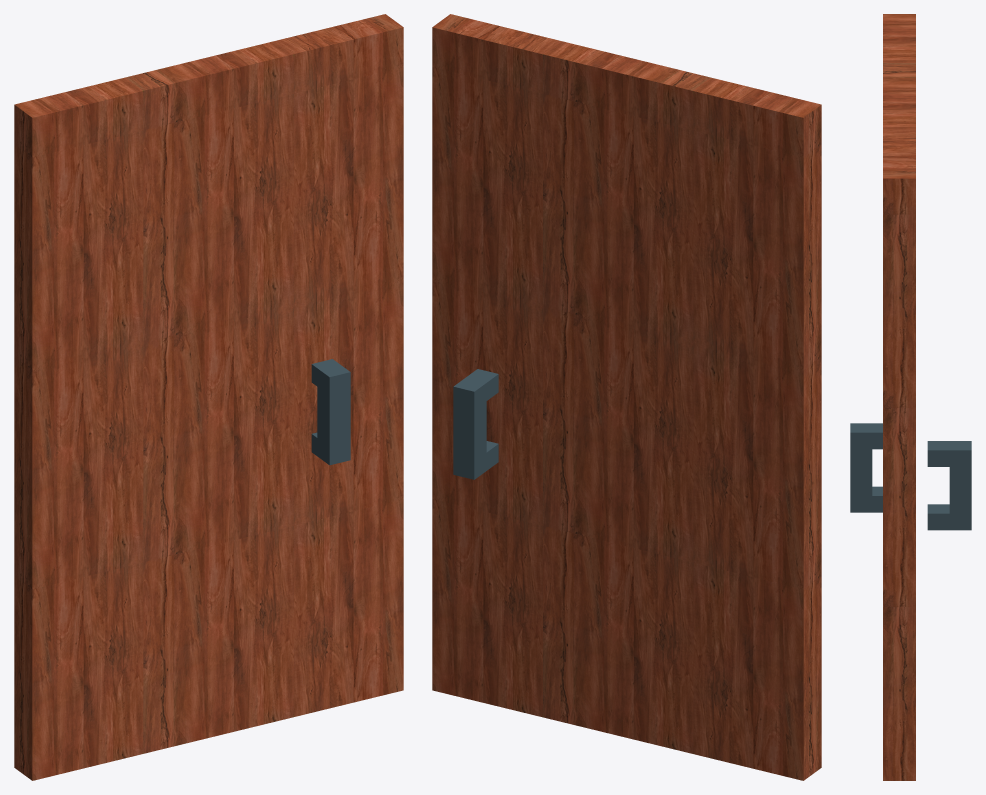
Rendered from door_tong.fbx.
3 views of the same model, side by side, from view 1: azimuth 30°, elevation 25°; view 2: azimuth 150°, elevation 25°; view 3: azimuth 270°, elevation 25° (orthographic). The views are drawn at different scales.
Visible parts, largest first — view 1: Object009; view 2: Object009; view 3: Object009.
Boxes of the visible parts, left/top/right/bottom form: Object009: left=14, top=14, right=403, bottom=780; Object009: left=432, top=14, right=821, bottom=780; Object009: left=850, top=14, right=971, bottom=780.
Bounding box in the file's own units: 353 × 602 × 110.
